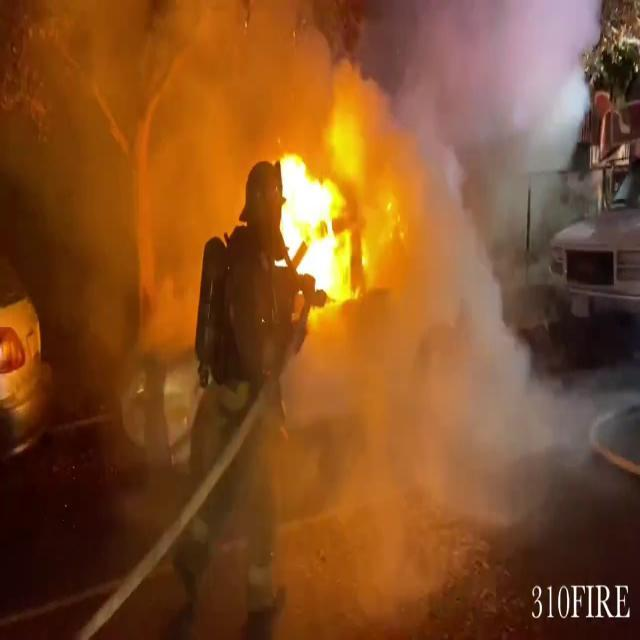Fire: (268, 139, 369, 313)
Smoke: (336, 0, 610, 562), (5, 1, 296, 323)
